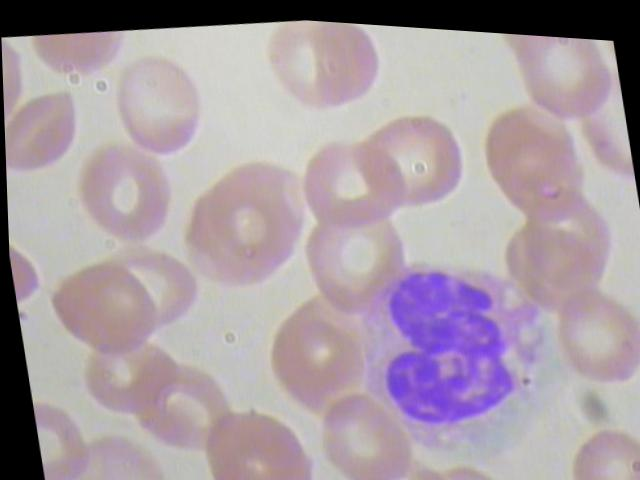Red Blood Cells: (333, 96, 473, 228), (293, 188, 433, 320), (183, 142, 321, 273), (41, 256, 162, 365), (533, 265, 639, 389), (69, 140, 181, 253), (102, 48, 214, 160), (505, 26, 625, 125), (185, 390, 316, 479), (309, 378, 422, 479), (2, 81, 94, 194), (299, 16, 399, 116), (57, 422, 169, 479), (554, 407, 639, 479)
White Blood Cells: (334, 241, 574, 471)
